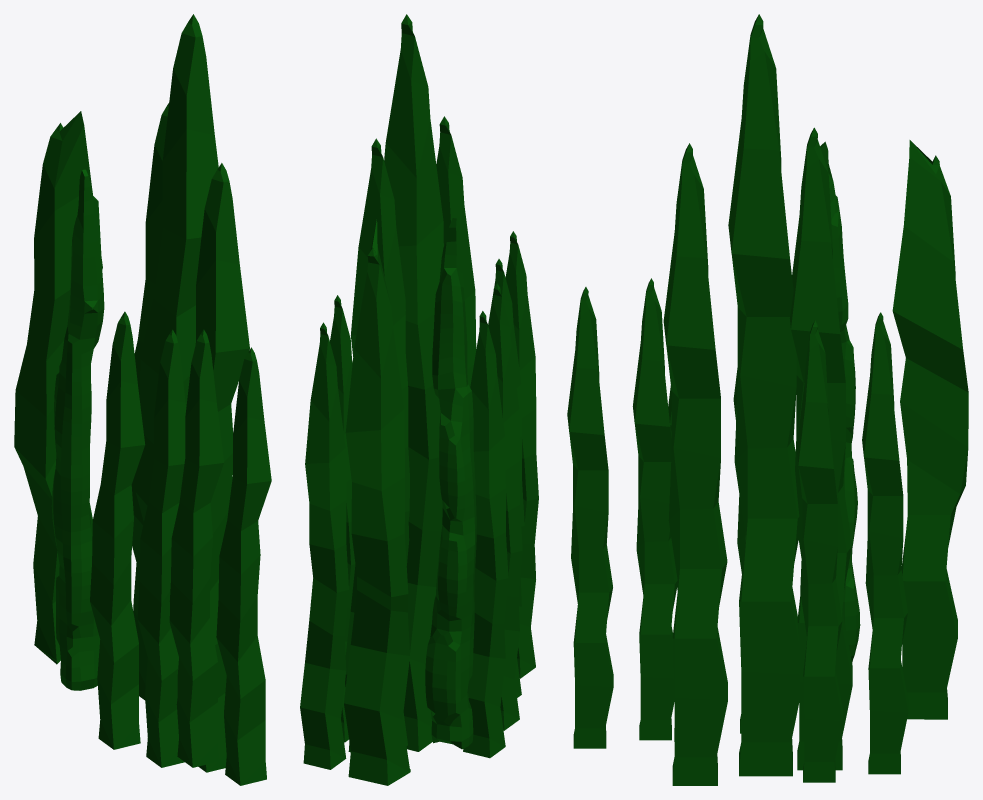
The model's file is trawa.fbx.
The picture shows the model from 3 angles, left to right: view 1: azimuth 30°, elevation 25°; view 2: azimuth 150°, elevation 25°; view 3: azimuth 270°, elevation 25°; orthographic projection. The views are drawn at different scales.
Visible parts, largest first — view 1: Cube.004, Cube.005, Cube.003, Cube.008, Cube.009, Cube.010, Cube.007, Cube, Cube.002; view 2: Cube.004, Cube.003, Cube.005, Cube.001, Cube.008, Cube.002, Cube.009, Cube.007, Cube, Cube.006, Cube.010; view 3: Cube.003, Cube.004, Cube, Cube.001, Cube.006, Cube.009, Cube.002, Cube.010, Cube.005.
Part boxes in pixels (x1,y1,x2,y2): Cube.004: (14,111,102,664); Cube.005: (51,169,104,690); Cube.003: (135,14,218,521); Cube.008: (90,311,145,749); Cube.009: (216,347,271,785); Cube.010: (169,329,223,767); Cube.007: (137,329,186,767); Cube: (195,163,249,772); Cube.002: (131,102,169,700); Cube.004: (344,219,410,785); Cube.003: (384,14,443,751); Cube.005: (425,218,476,749); Cube.001: (300,322,348,769); Cube.008: (463,311,508,758); Cube.002: (345,138,409,752); Cube.009: (505,231,538,678); Cube.007: (489,283,522,730); Cube: (436,116,476,387); Cube.006: (330,295,355,742); Cube.010: (488,259,524,697); Cube.003: (728,14,799,776); Cube.004: (892,140,968,719); Cube: (663,143,727,785); Cube.001: (862,312,908,774); Cube.006: (796,320,842,782); Cube.009: (567,287,613,748); Cube.002: (789,127,852,770); Cube.010: (632,278,677,740); Cube.005: (820,141,860,663).
Bounding box in the file's own units: 19.13 × 85.55 × 40.58.
